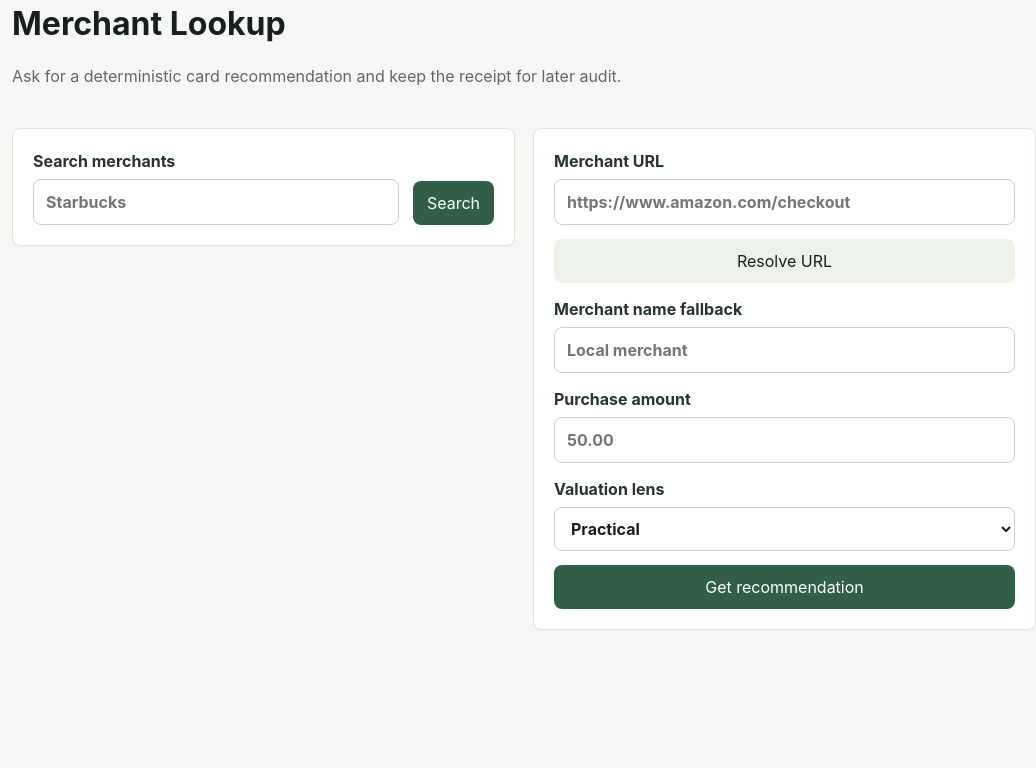
Test: merchant lookup page › requires merchant input before submit
Click the button "Get recommendation" at (784, 587), box x1=554 y1=565 x2=1015 y2=609
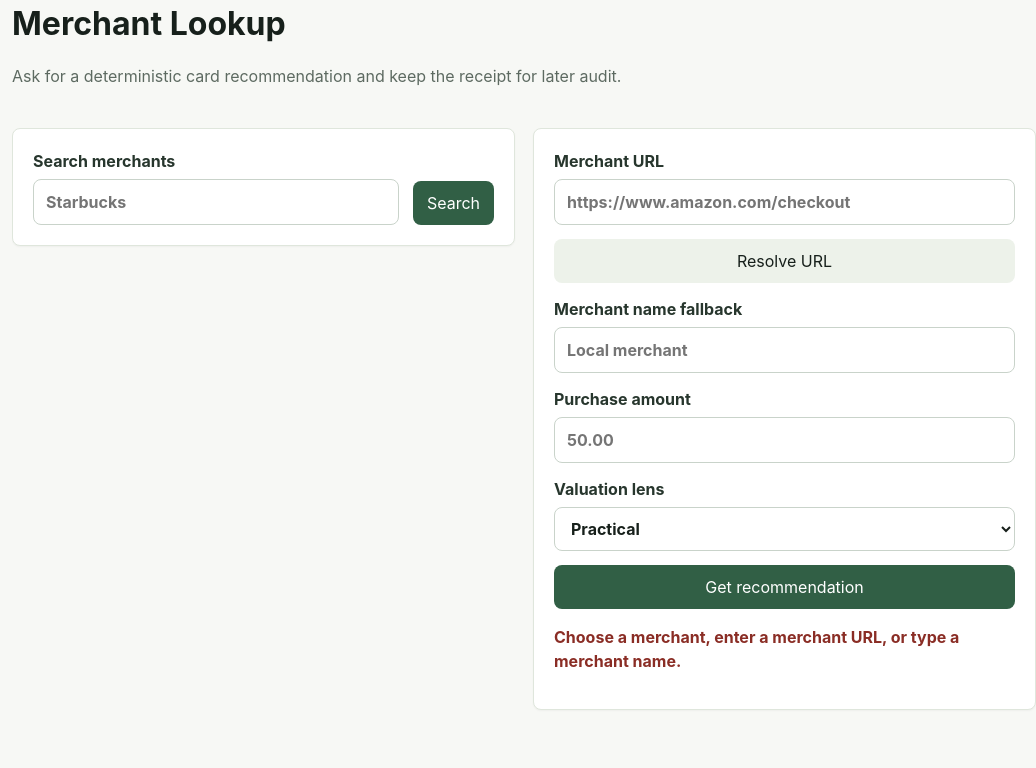
Result: the text "Choose a merchant, enter a merchant URL, or type a merchant name." is shown at x1=554 y1=625 x2=1015 y2=673
